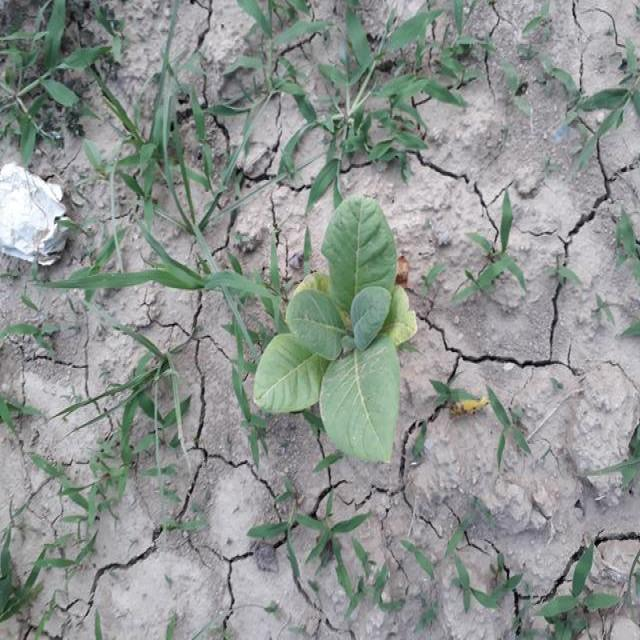crop: (256, 202, 416, 476)
